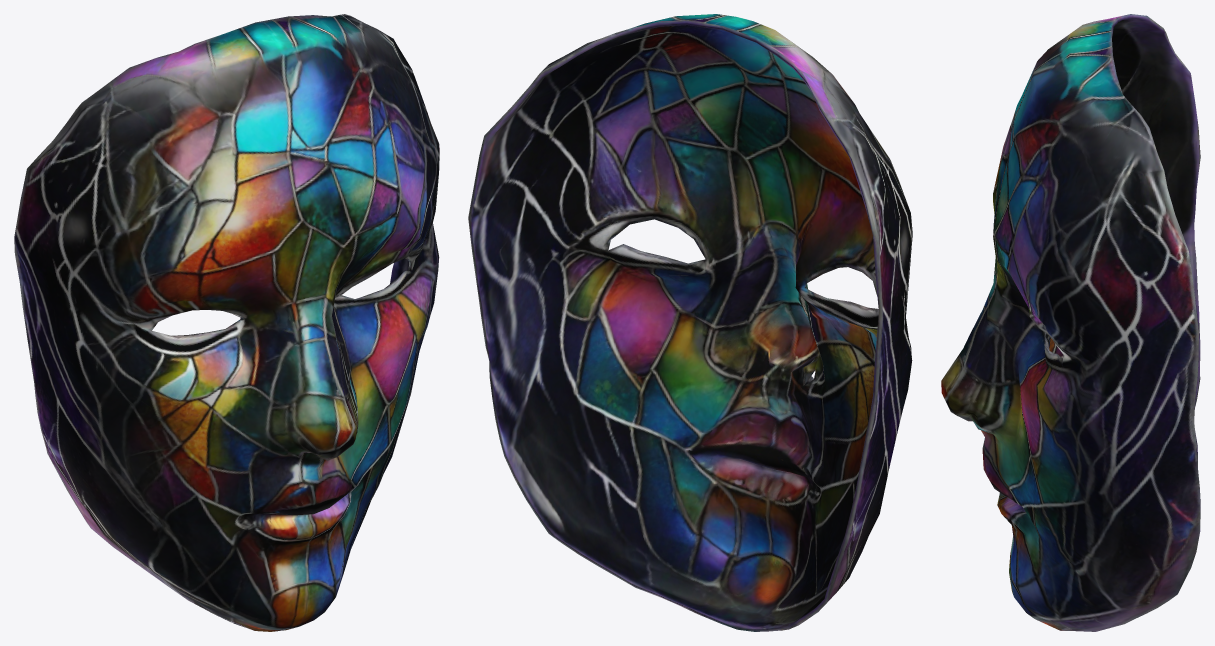
File: testMaskRainbow.glb
The picture shows the model from 3 angles, left to right: view 1: azimuth 30°, elevation 25°; view 2: azimuth 150°, elevation 25°; view 3: azimuth 270°, elevation 25°; orthographic projection. The views are drawn at different scales.
Visible parts, largest first — view 1: Mesh_0; view 2: Mesh_0; view 3: Mesh_0.
Part boxes in pixels (box(x1,y1,x2,y2)): Mesh_0: box(14, 14, 439, 631); Mesh_0: box(468, 14, 912, 631); Mesh_0: box(941, 14, 1200, 631).
Size of the model in its own units: 0.7052 by 1 by 0.4003.
Materials: 1 (1 with a texture image).
